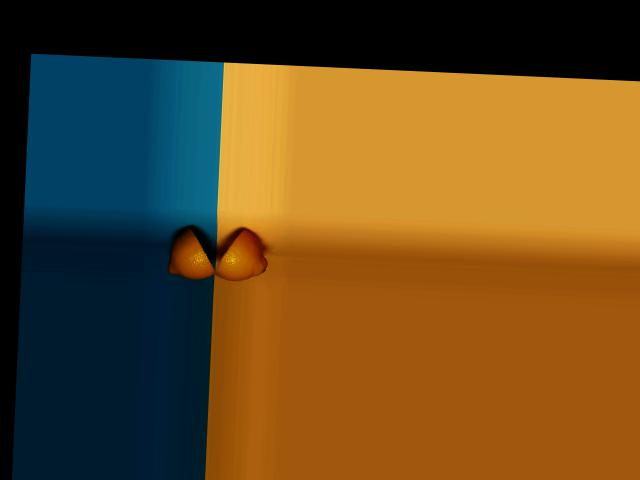lemon: (160, 222, 219, 283)
